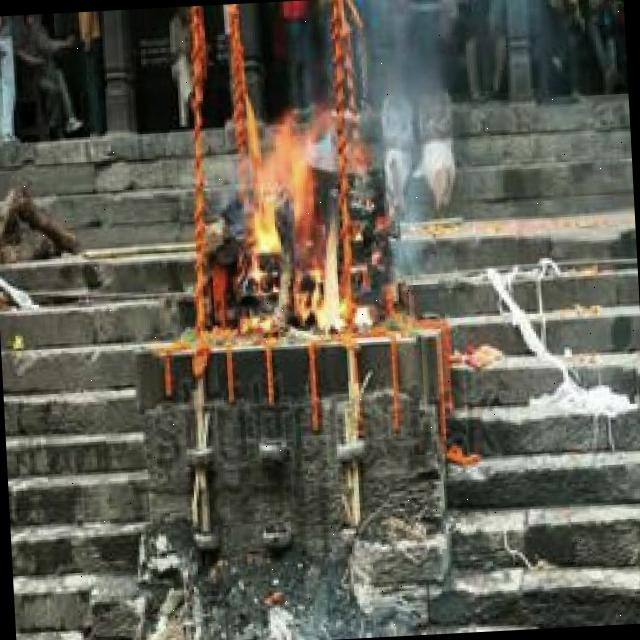fire: (238, 110, 372, 334)
